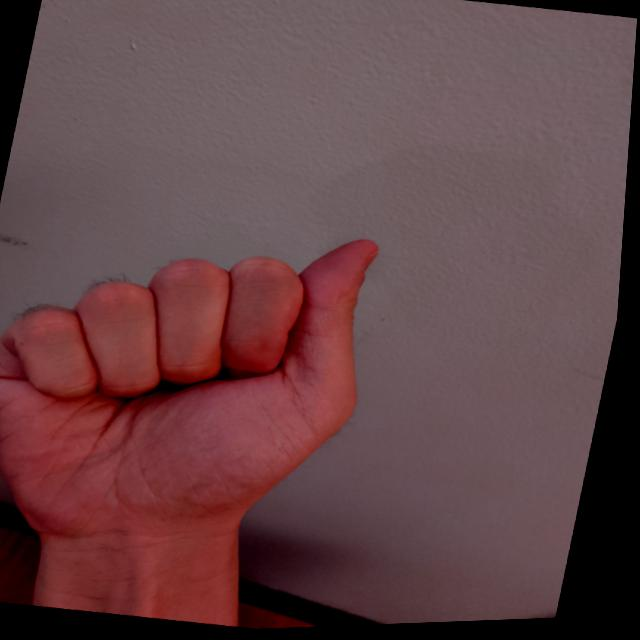A: (0, 180, 408, 606)
